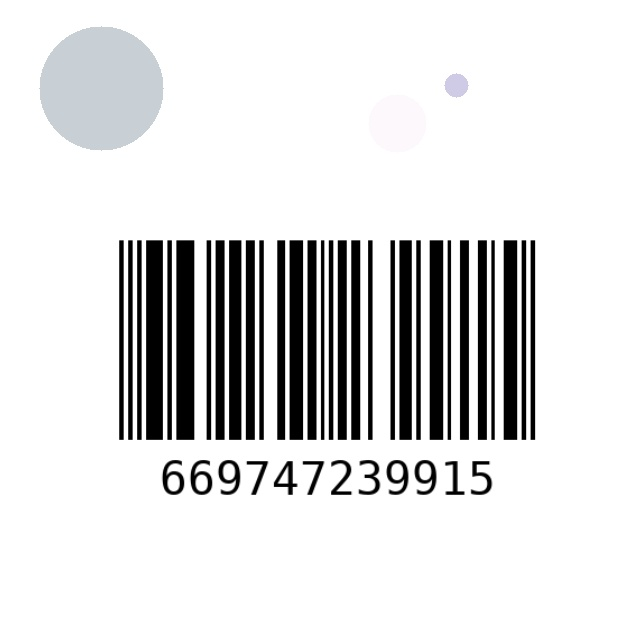barcode: (34, 228, 620, 542)
